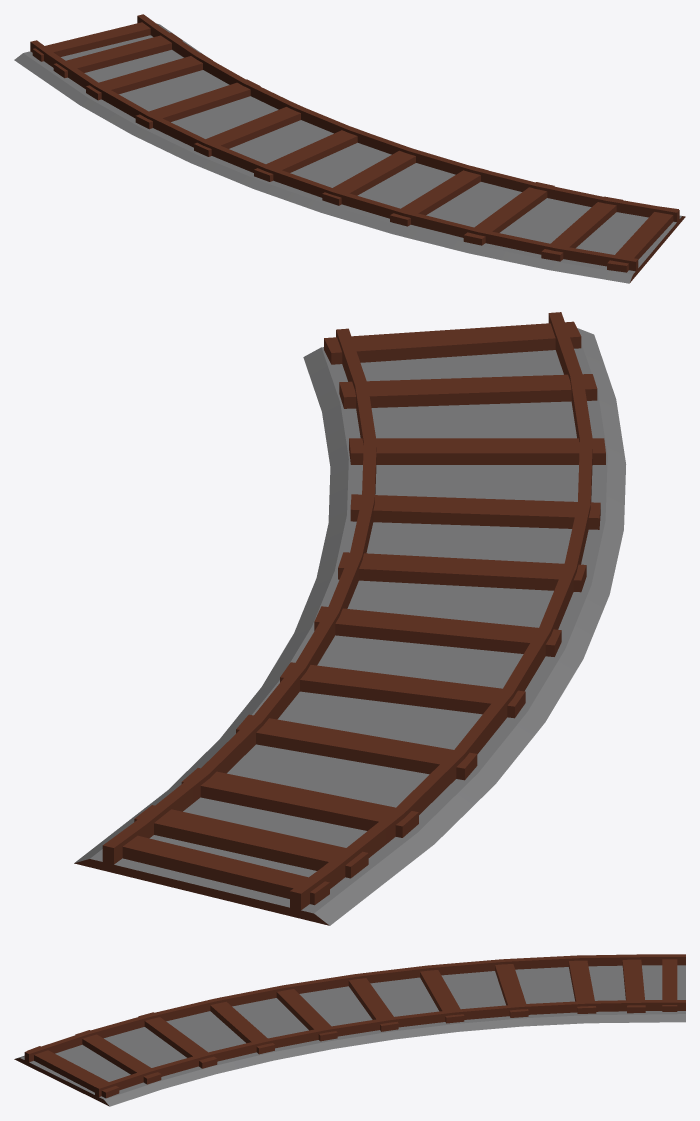
File: SM_rails_05.glb
3 renders of one model, top to bottom at view 1: azimuth 30°, elevation 25°; view 2: azimuth 150°, elevation 25°; view 3: azimuth 270°, elevation 25°, orthographic. The views are drawn at different scales.
Parts seen in each view (by area): view 1: SM_rails_05; view 2: SM_rails_05; view 3: SM_rails_05.
Boxes of the visible parts, x1,y1,x2,y2 form: SM_rails_05: (14,14,685,283); SM_rails_05: (74,312,626,925); SM_rails_05: (14,954,685,1106).
Bounding box in the file's own units: 3.53 × 0.1401 × 6.81.
Materials: 1 (1 with a texture image).
